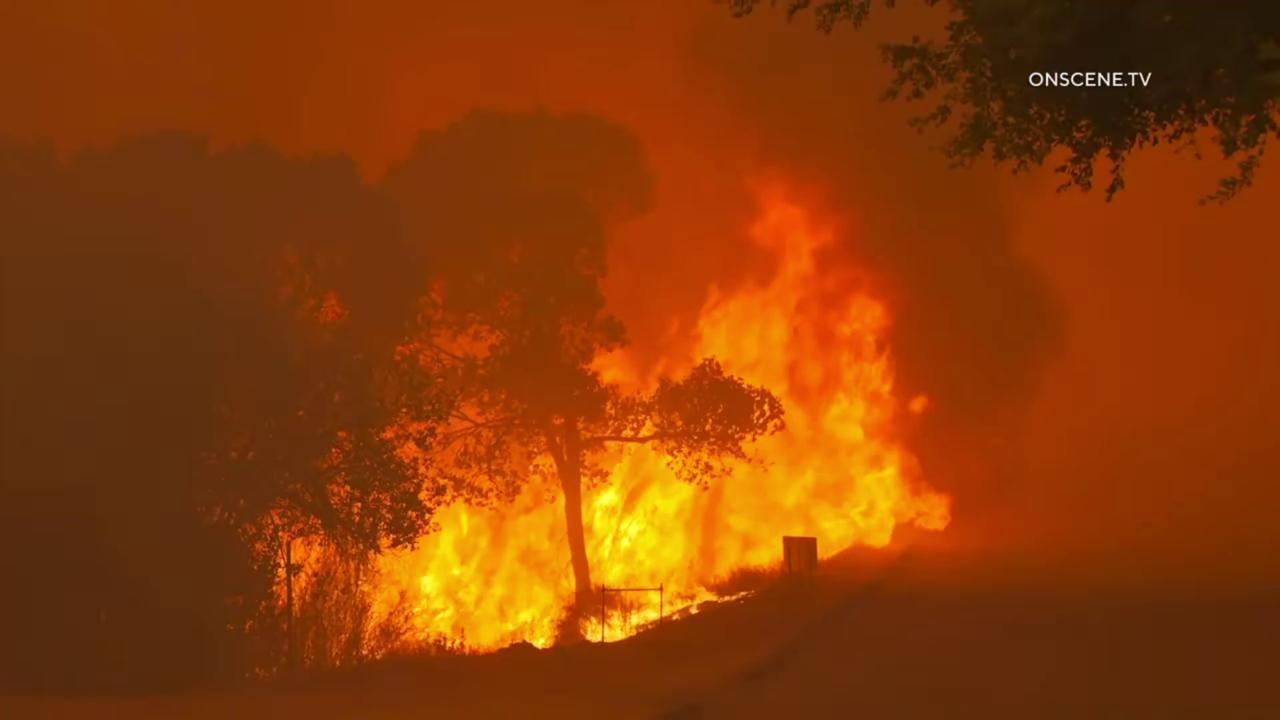fire: (248, 157, 955, 669)
smoke: (0, 0, 1280, 720)
